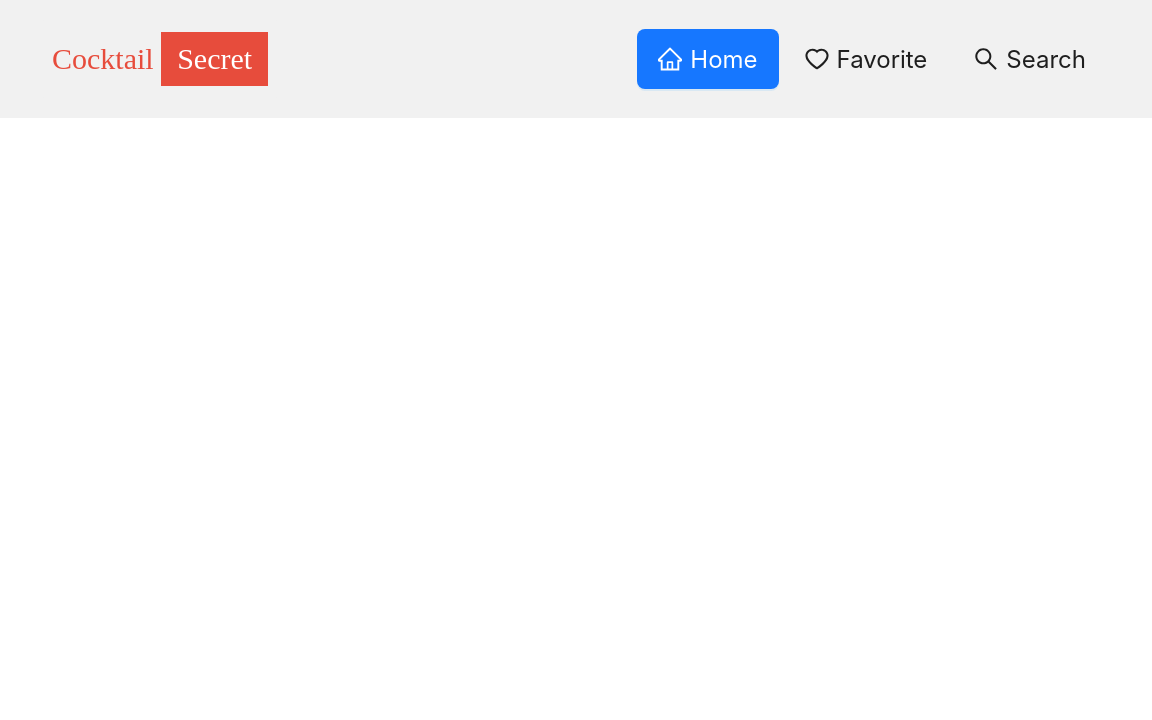
Test: Navigation bar › Should be able click on favorite button
What coordinates should you click on to do the following:
click the button "Favorite"
I would click on:
 (866, 59)
Its box is [784,29,948,89].
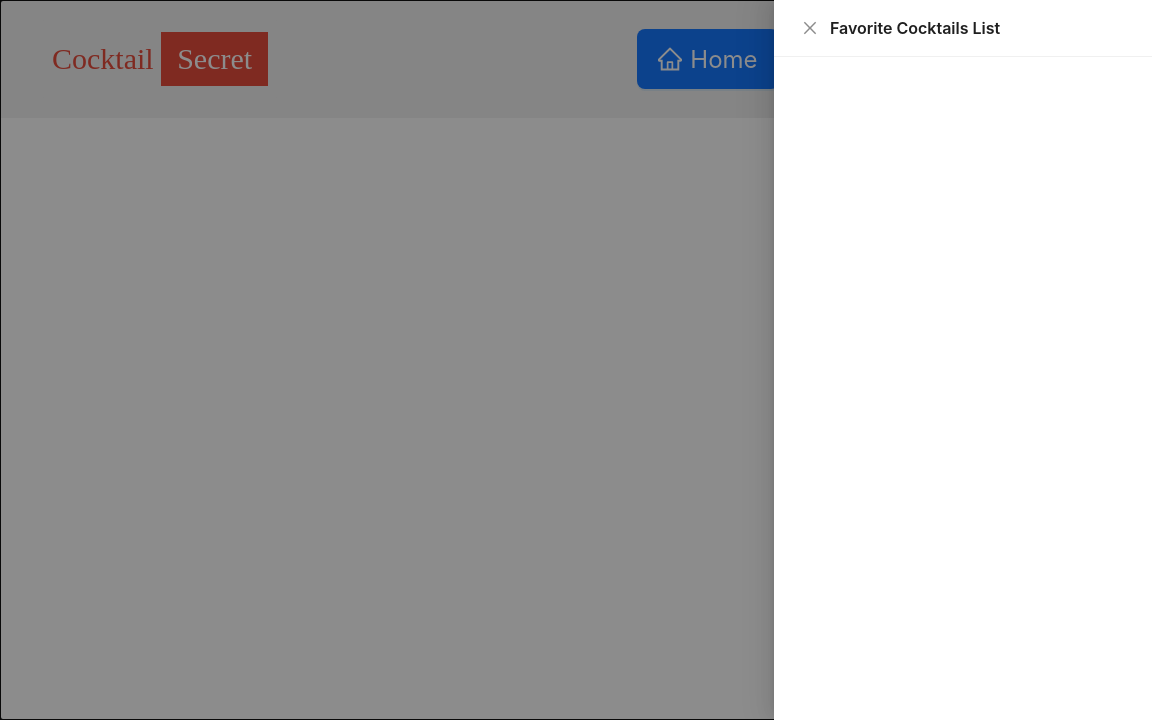
Expected: the text "Favorite Cocktails List" is shown, [830,18,1000,38]
